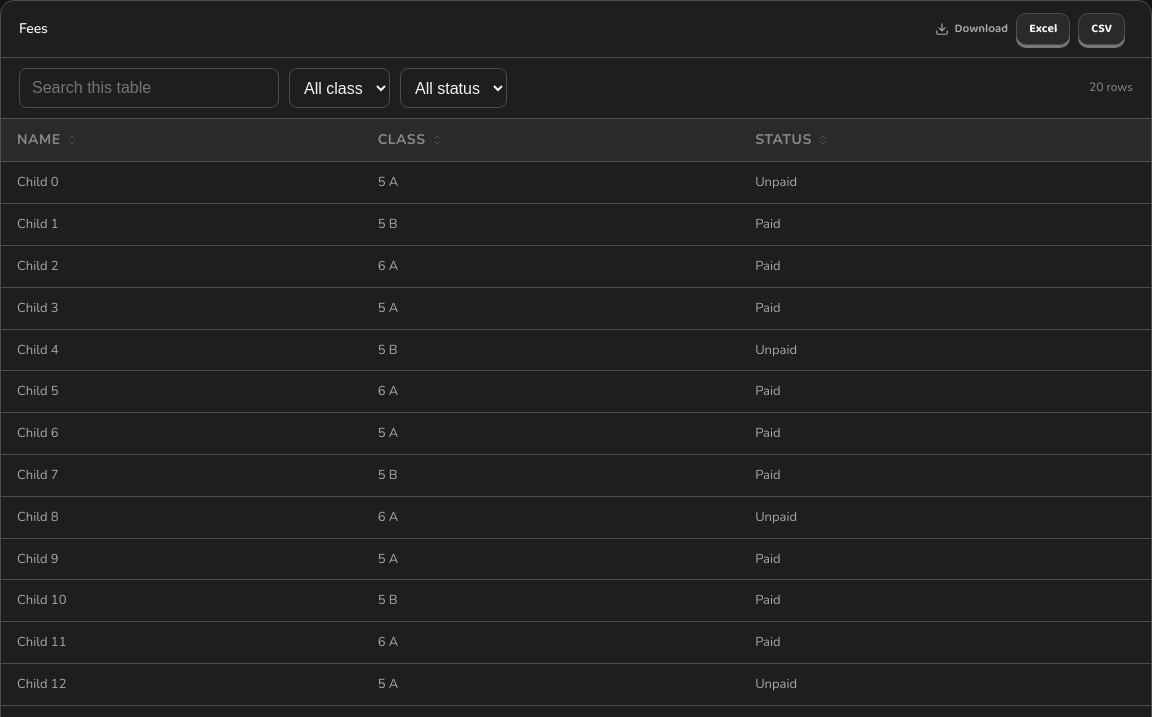
Test case: picking a value narrows the table and says how much is hidden
Expected: the text with test id "t-filter-count" reads "20 rows", [1089, 79, 1133, 95]
Select "Unpaid" in the dropdown with test id "t-filter-2" at {"x": 454, "y": 88}, box [400, 68, 507, 108]
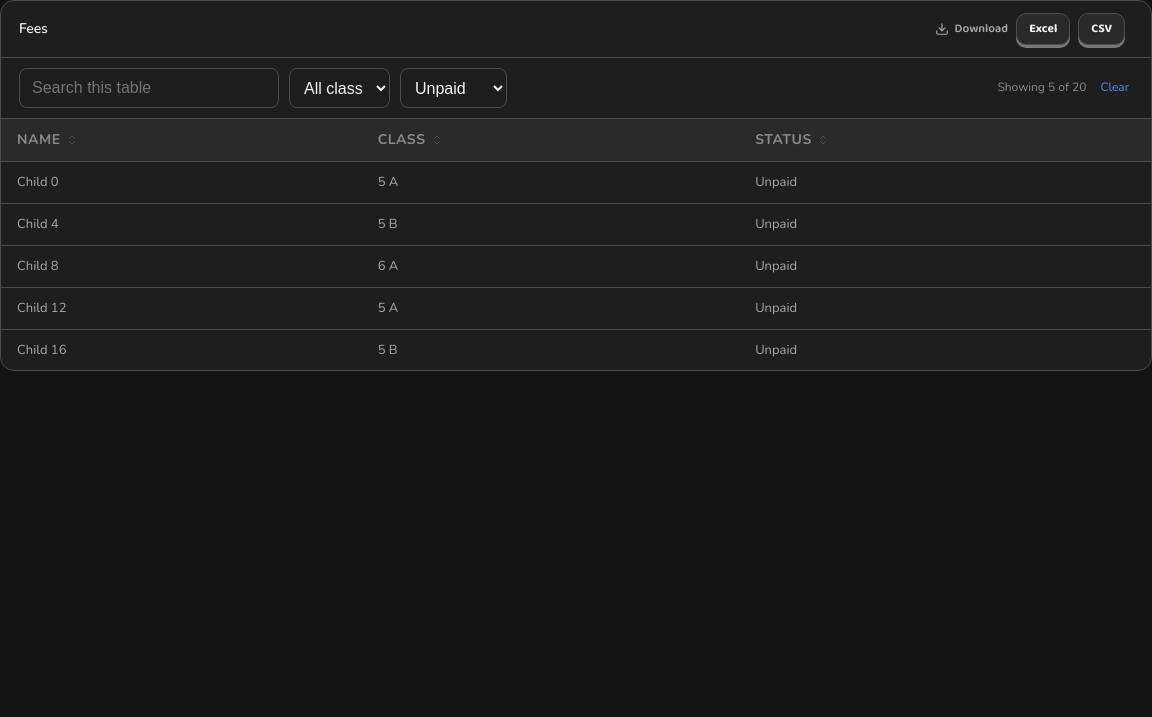
Expected: the text "Child 0" is shown, [1, 162, 362, 204]
Now the text with test id "t-filter-count" reads "Showing 5 of 20", box [997, 79, 1086, 95]
